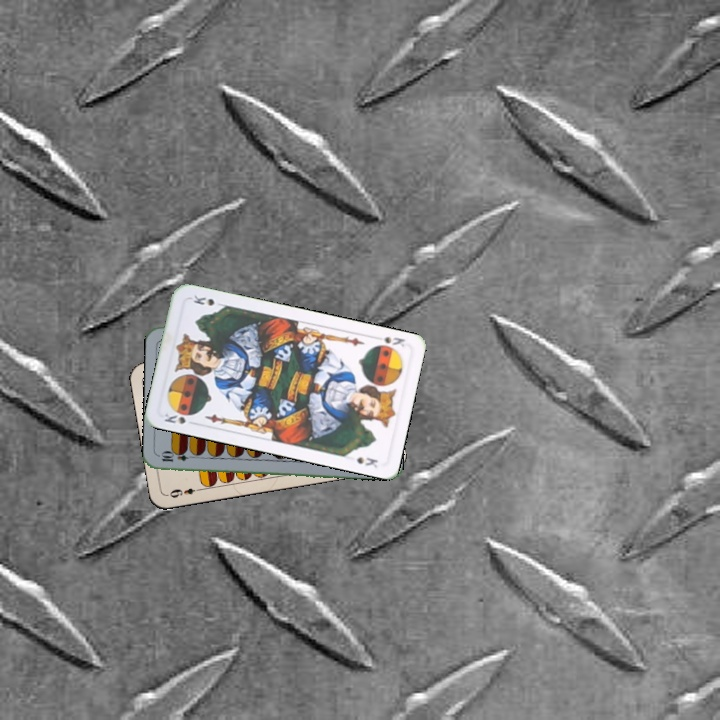E10: (157, 450, 198, 464)
E9: (164, 484, 204, 500)
SK: (378, 332, 408, 350), (160, 408, 188, 427)
